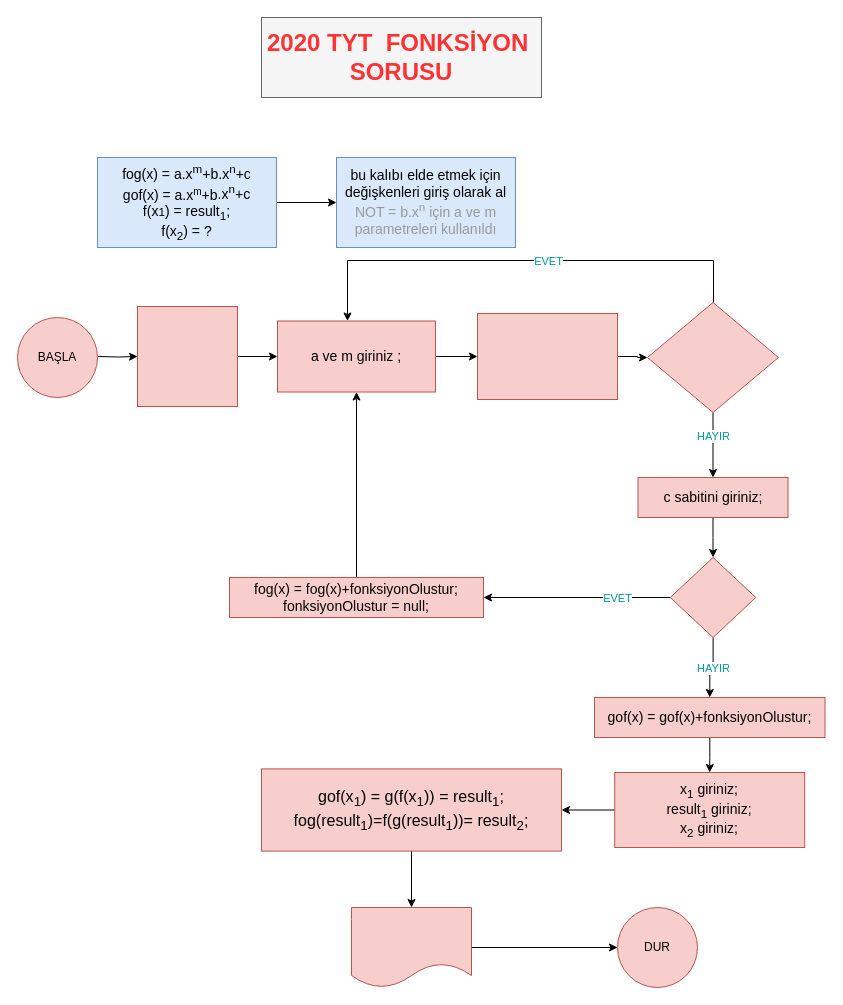
This 843x1005 diagram has some shape labels left out. The shapes that lost their labels are listed below. From the top down, each one's box as (x1, y1, x2, y2) in pixels, then its label:
(136, 306, 238, 406): x = null; f(x) = null; g(x) = null;
(476, 312, 618, 400): fonksiyonOlustur = fonksiyonOlustur + a.x m ;
(646, 302, 778, 412): bilinmeyen başka bağımsız değişken var mı ?
(669, 556, 756, 638): f(x) == null;
(350, 906, 472, 988): f(x 2 ) = Result 2 ;
